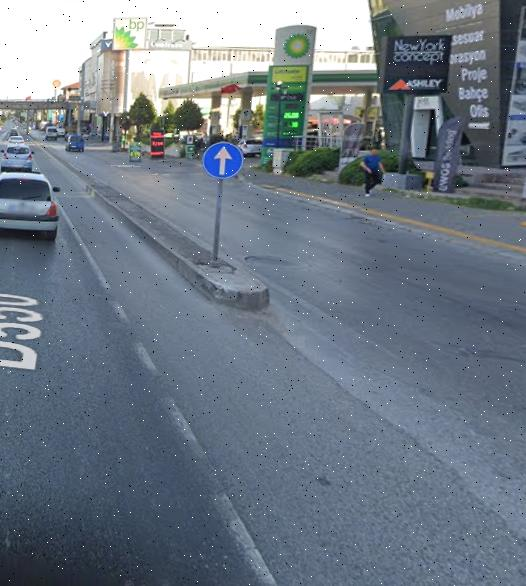forward: (203, 142, 243, 178)
